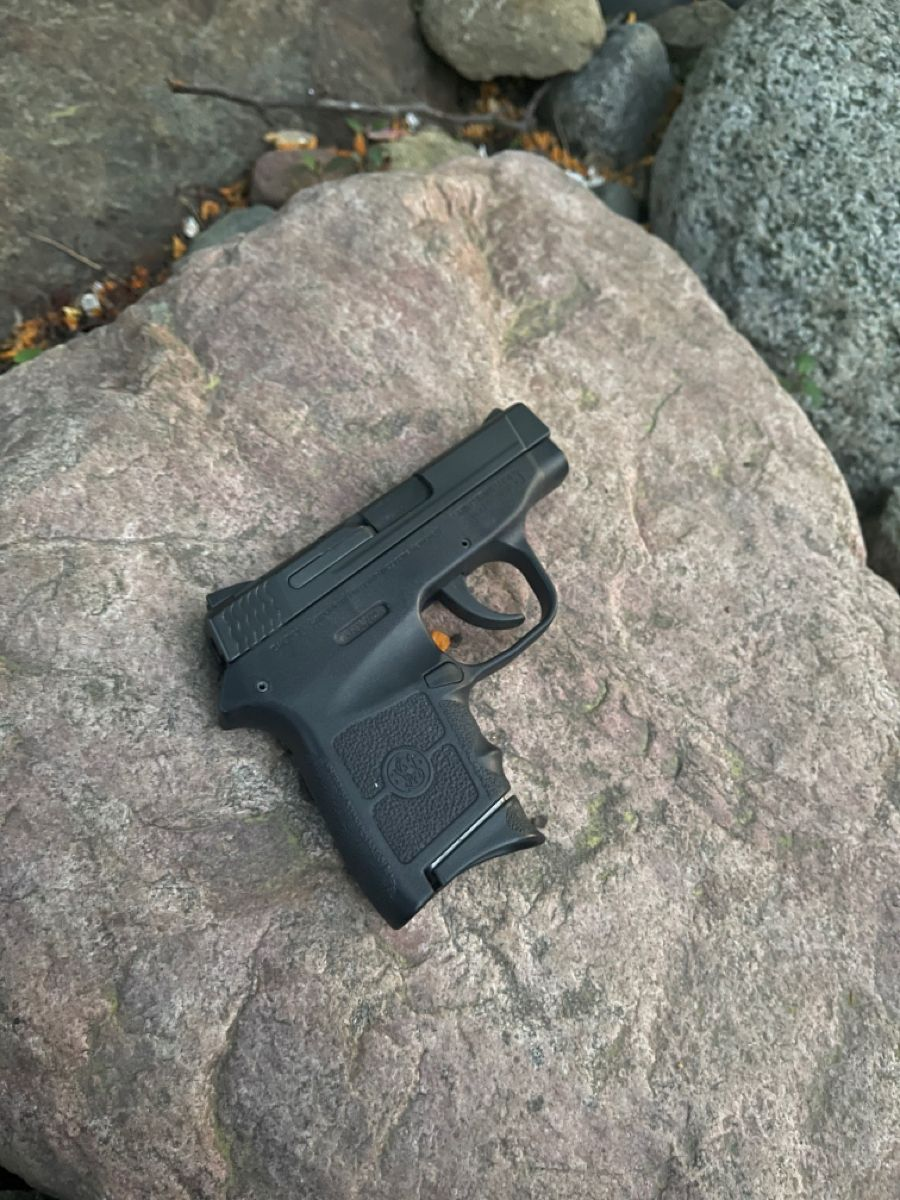gun: (198, 394, 607, 953)
